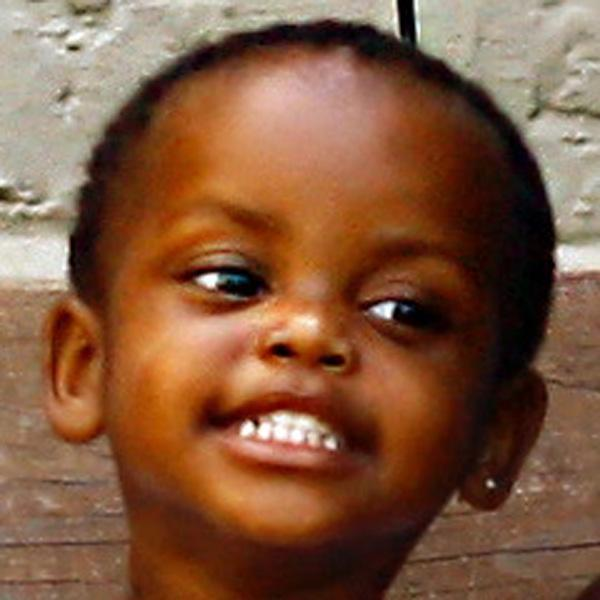Eyes: (176, 241, 268, 312), (357, 276, 443, 345)
